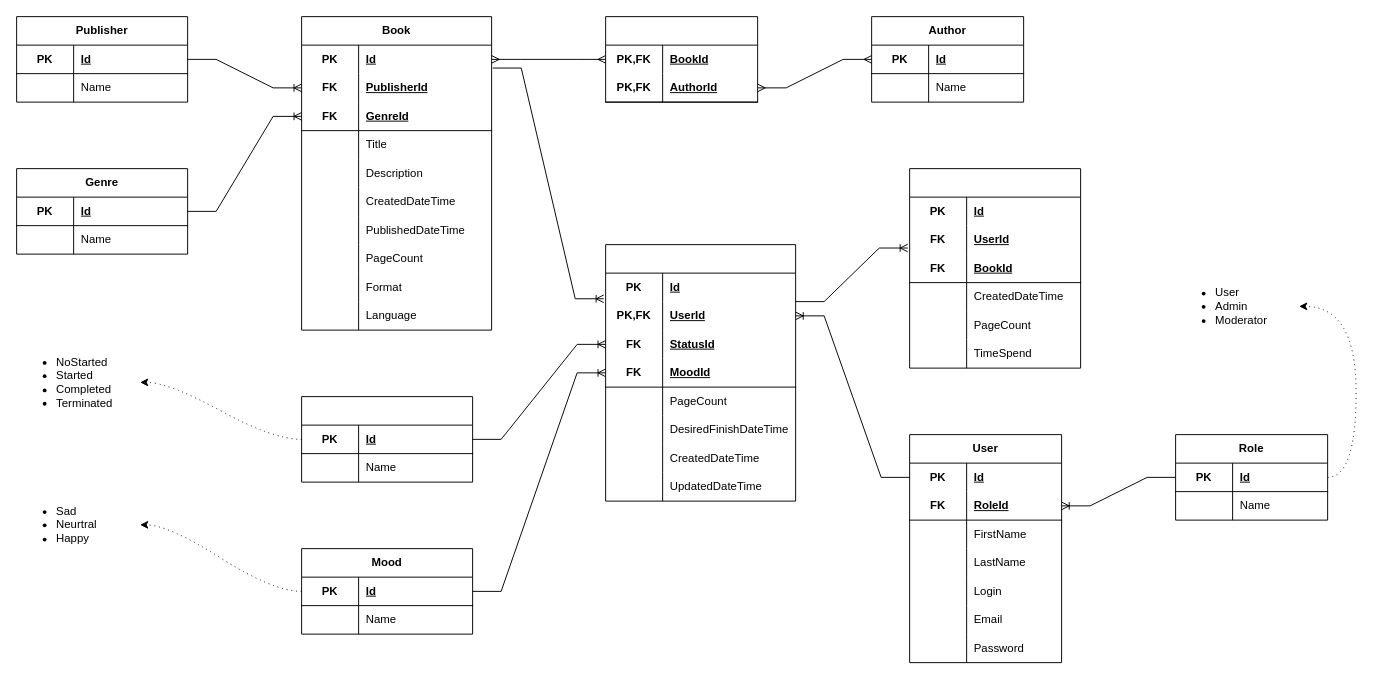
This 1373x679 diagram has some shape labels left out. Here are the shapes that lost their labels. From the top down, the box of each, then its label:
(605, 16, 758, 102): BookAuthor
(909, 168, 1081, 368): UserBookTracker
(605, 244, 796, 501): UserBook
(301, 396, 473, 482): UserBookStatus
